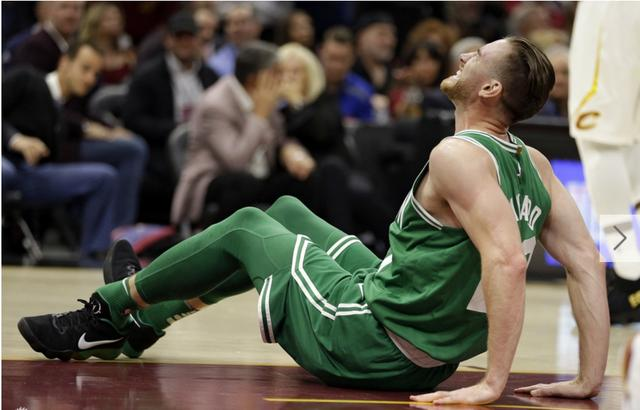10+: (8, 2, 484, 226)
down: (12, 36, 612, 401)
